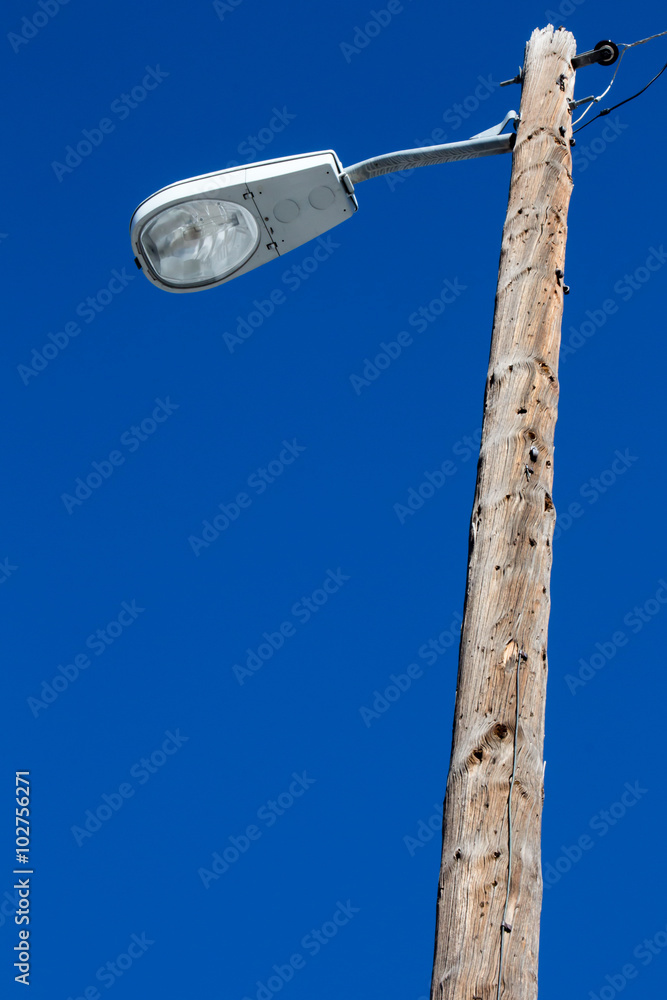light_pole: (434, 28, 582, 1000)
